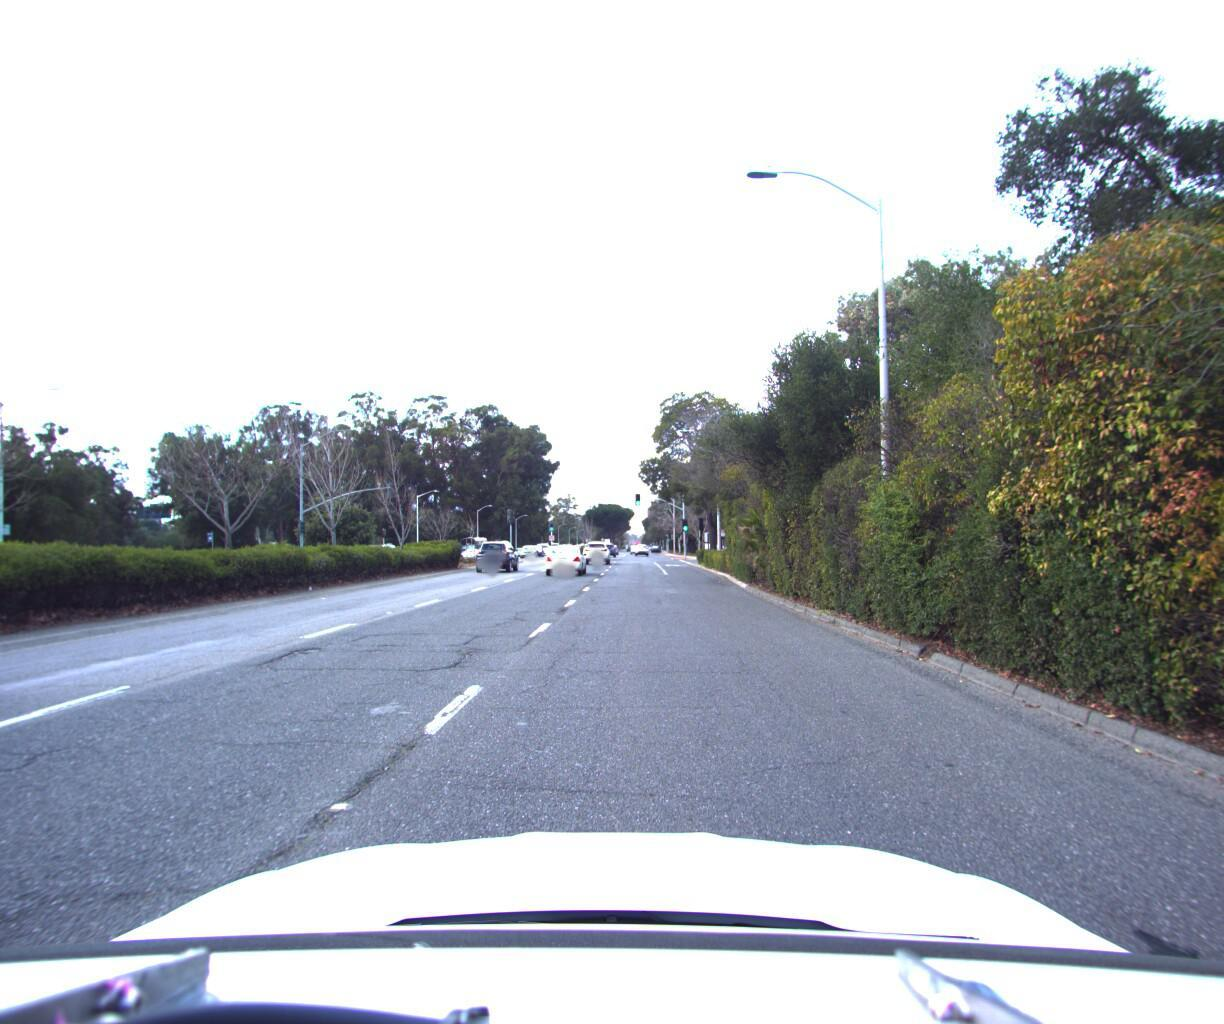car: (0, 541, 15, 855), (543, 534, 588, 573), (475, 535, 521, 570), (582, 537, 609, 561)
